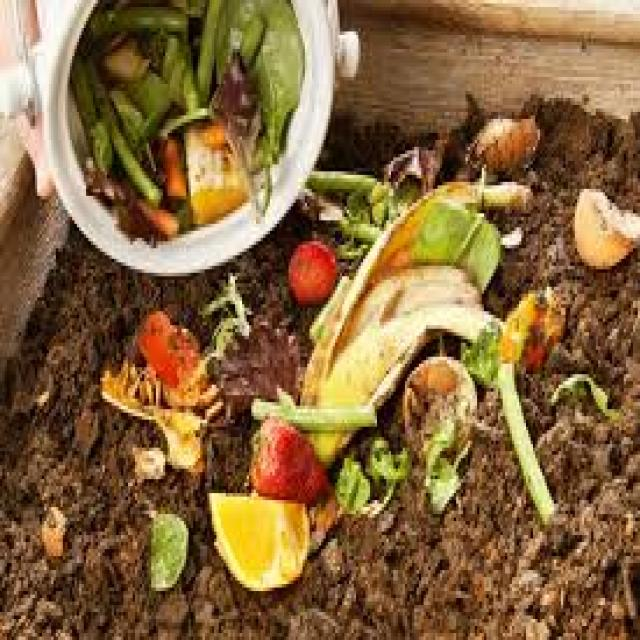Wet: (106, 28, 265, 101), (256, 417, 322, 501), (290, 241, 341, 302)
